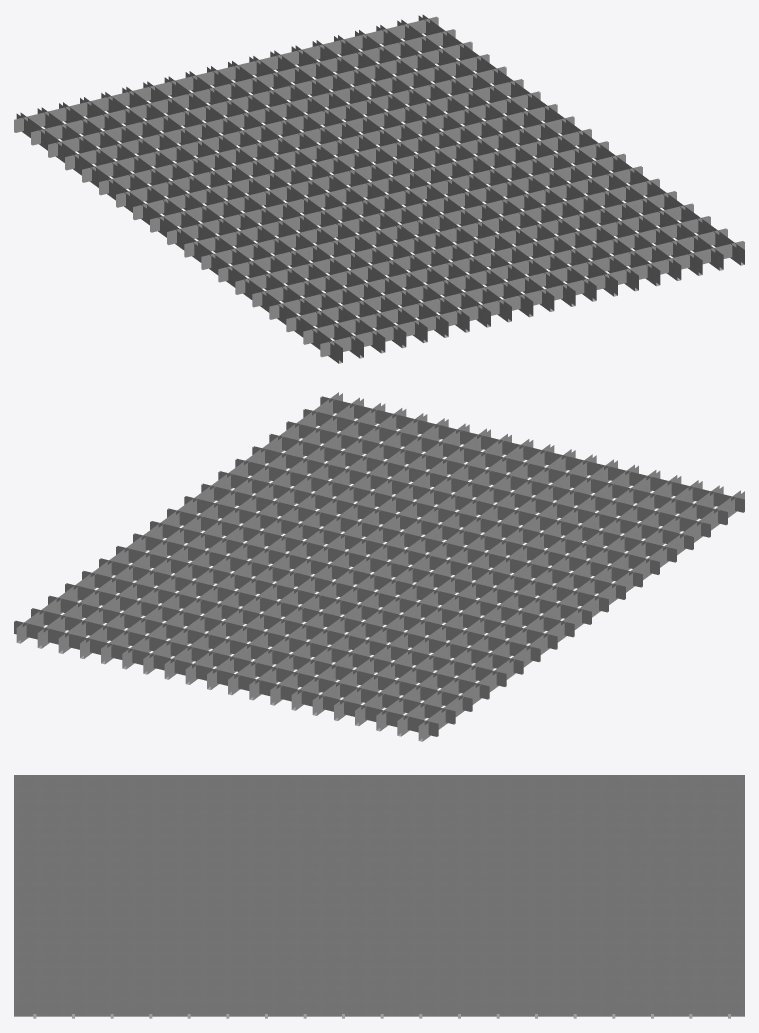
The model's file is wall11.gltf.
The picture shows the model from 3 angles, top to bottom: view 1: azimuth 30°, elevation 25°; view 2: azimuth 150°, elevation 25°; view 3: azimuth 270°, elevation 25°; orthographic projection. The views are drawn at different scales.
Parts seen in each view (by area): view 1: L2_WaiQiang_11; view 2: L2_WaiQiang_11; view 3: L2_WaiQiang_11.
Part boxes in pixels (box(x1,y1,x2,y2)): L2_WaiQiang_11: box(14, 14, 744, 363); L2_WaiQiang_11: box(14, 392, 744, 741); L2_WaiQiang_11: box(14, 775, 744, 1018).
Bounding box in the file's own units: 25.92 × 0.8616 × 34.18.
Materials: 1 (1 with a texture image).
